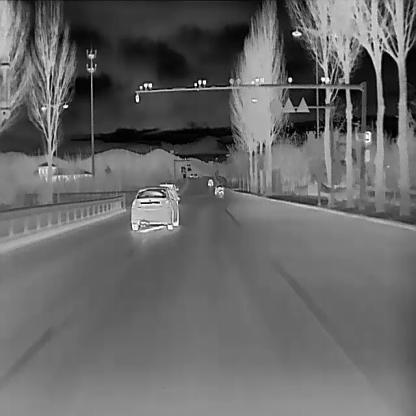car: (129, 185, 179, 229), (159, 180, 180, 203), (213, 183, 223, 194), (206, 177, 213, 185), (192, 172, 197, 177), (189, 172, 193, 177)
